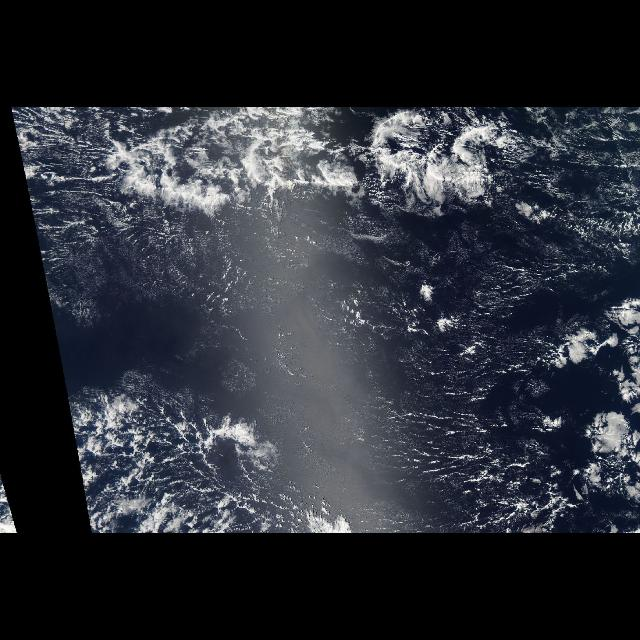Fish: (111, 109, 503, 213)
Gravel: (68, 400, 368, 528), (86, 114, 540, 198)
Sugar: (44, 214, 552, 532)
